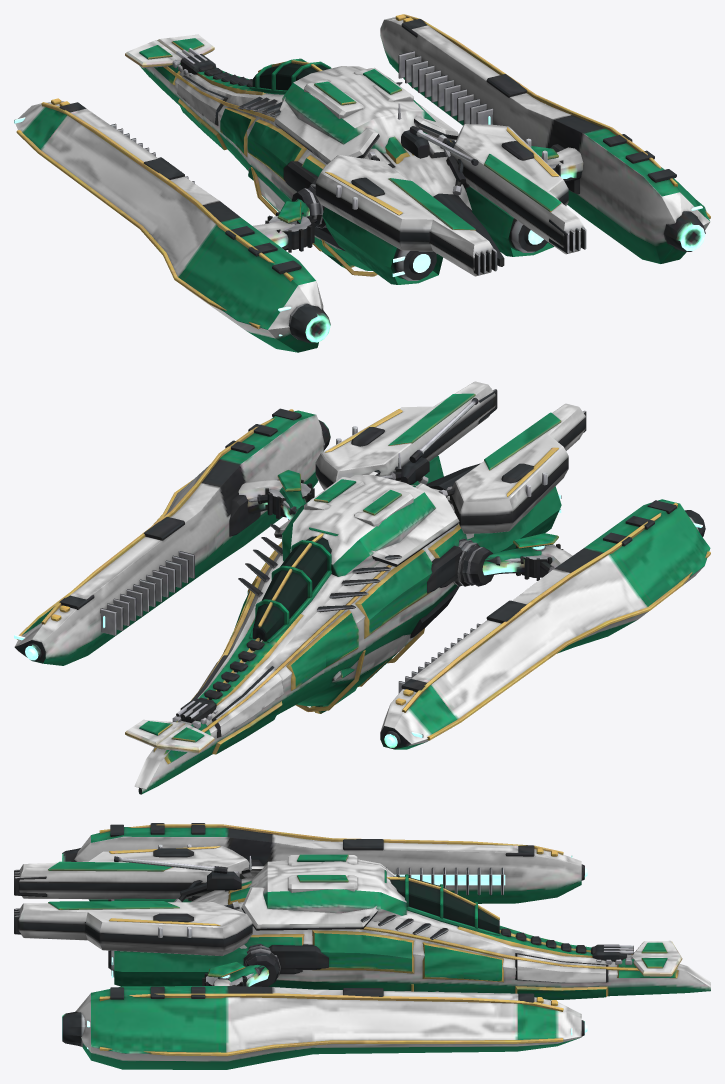
The model's file is elyza_fighter_v2.glb.
3 views of the same model, one above another, from view 1: azimuth 30°, elevation 25°; view 2: azimuth 150°, elevation 25°; view 3: azimuth 270°, elevation 25° (orthographic). The views are drawn at different scales.
Visible parts, largest first — view 1: Body, WingL, WingR; view 2: Body, WingL, WingR; view 3: Body, WingR, WingL.
Boxes of the visible parts, x1=… form: Body: x1=125, y1=34, x2=586, y2=284; WingL: x1=14, y1=98, x2=330, y2=352; WingR: x1=380, y1=14, x2=710, y2=263; Body: x1=125, y1=381, x2=586, y2=794; WingL: x1=380, y1=499, x2=710, y2=749; WingR: x1=14, y1=408, x2=330, y2=665; Body: x1=14, y1=844, x2=710, y2=1000; WingR: x1=62, y1=953, x2=587, y2=1069; WingL: x1=62, y1=823, x2=587, y2=903.
Bounding box in the file's own units: 8.41 × 3.41 × 12.
Materials: 1 (1 with a texture image).
